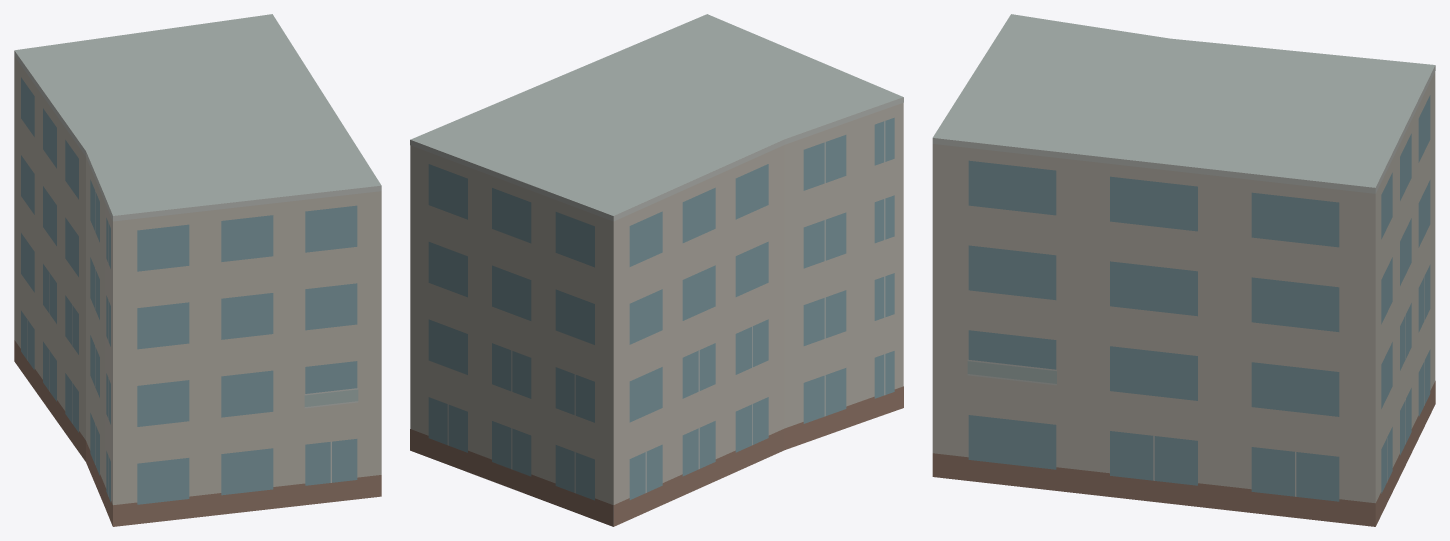
The model's file is survey-upis-33008046.glb.
3 views of the same model, side by side, from view 1: azimuth 30°, elevation 25°; view 2: azimuth 150°, elevation 25°; view 3: azimuth 270°, elevation 25° (orthographic). The views are drawn at different scales.
Parts seen in each view (by area): view 1: survey-upis-33008046.tmp; view 2: survey-upis-33008046.tmp; view 3: survey-upis-33008046.tmp.
Boxes of the visible parts, <box> form: survey-upis-33008046.tmp: <box>14,14,381,526</box>; survey-upis-33008046.tmp: <box>410,14,903,526</box>; survey-upis-33008046.tmp: <box>932,14,1435,526</box>.
Size of the model in its own units: 15.18 by 13.8 by 18.56.
